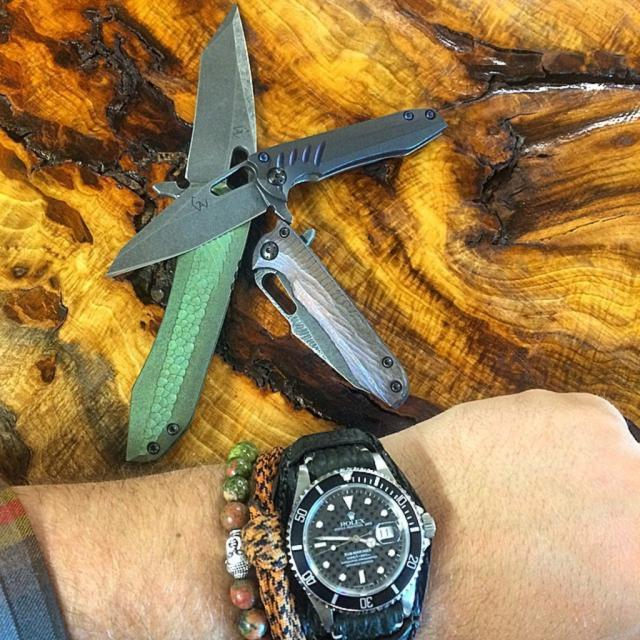Knife: (109, 109, 446, 276), (254, 221, 409, 407), (126, 224, 247, 462), (186, 6, 256, 192)
